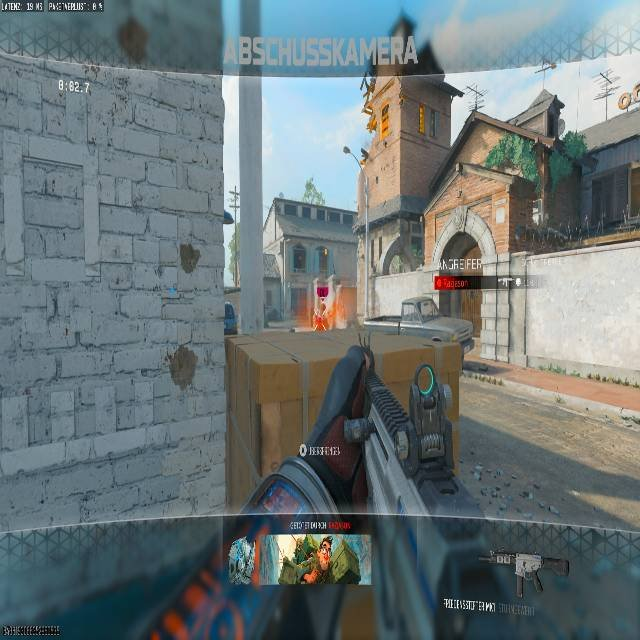player: (312, 304, 331, 334)
